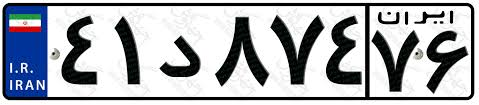character: (209, 10, 272, 89), (268, 8, 327, 91), (53, 11, 102, 91), (371, 26, 425, 95), (420, 26, 470, 96), (323, 7, 364, 92), (150, 30, 212, 85), (106, 9, 146, 91)
